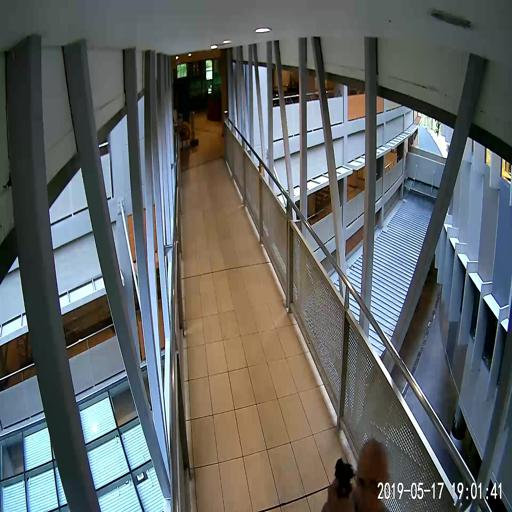pistol: (332, 455, 354, 512)
